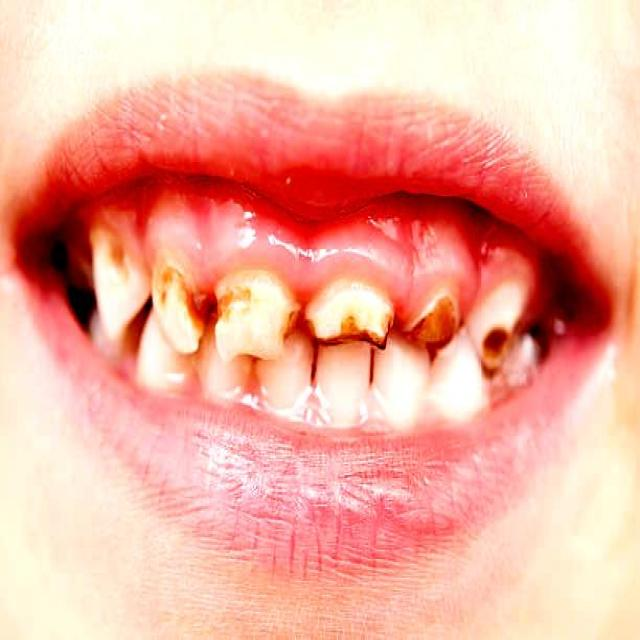caries: (210, 264, 300, 368), (303, 267, 395, 355), (397, 279, 471, 366), (151, 257, 208, 350), (476, 307, 516, 381), (102, 226, 138, 288)
